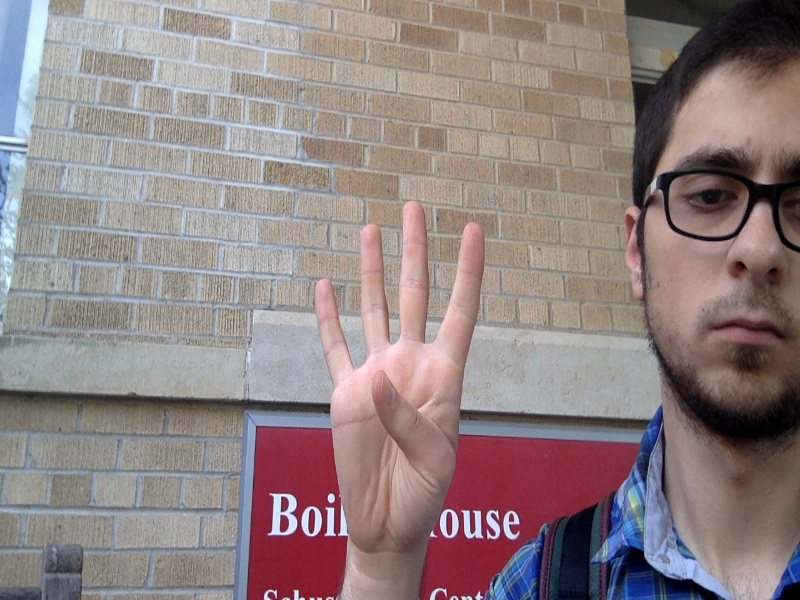4-hand: (315, 200, 483, 556)
